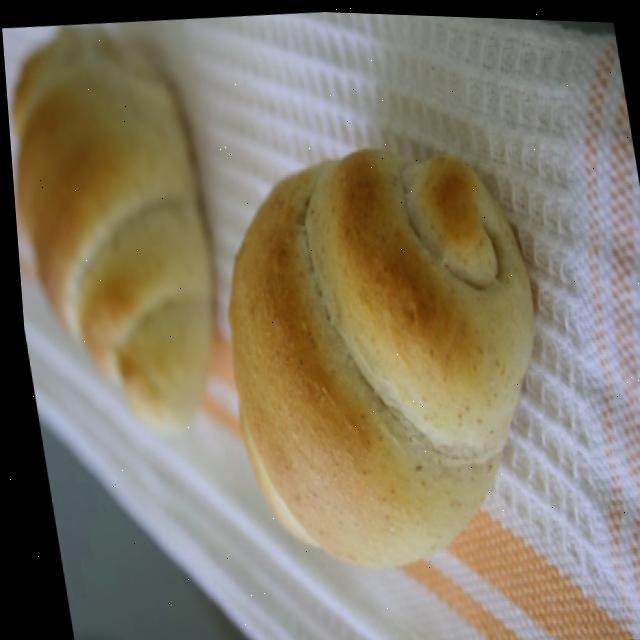面包点心: (176, 108, 584, 613)
